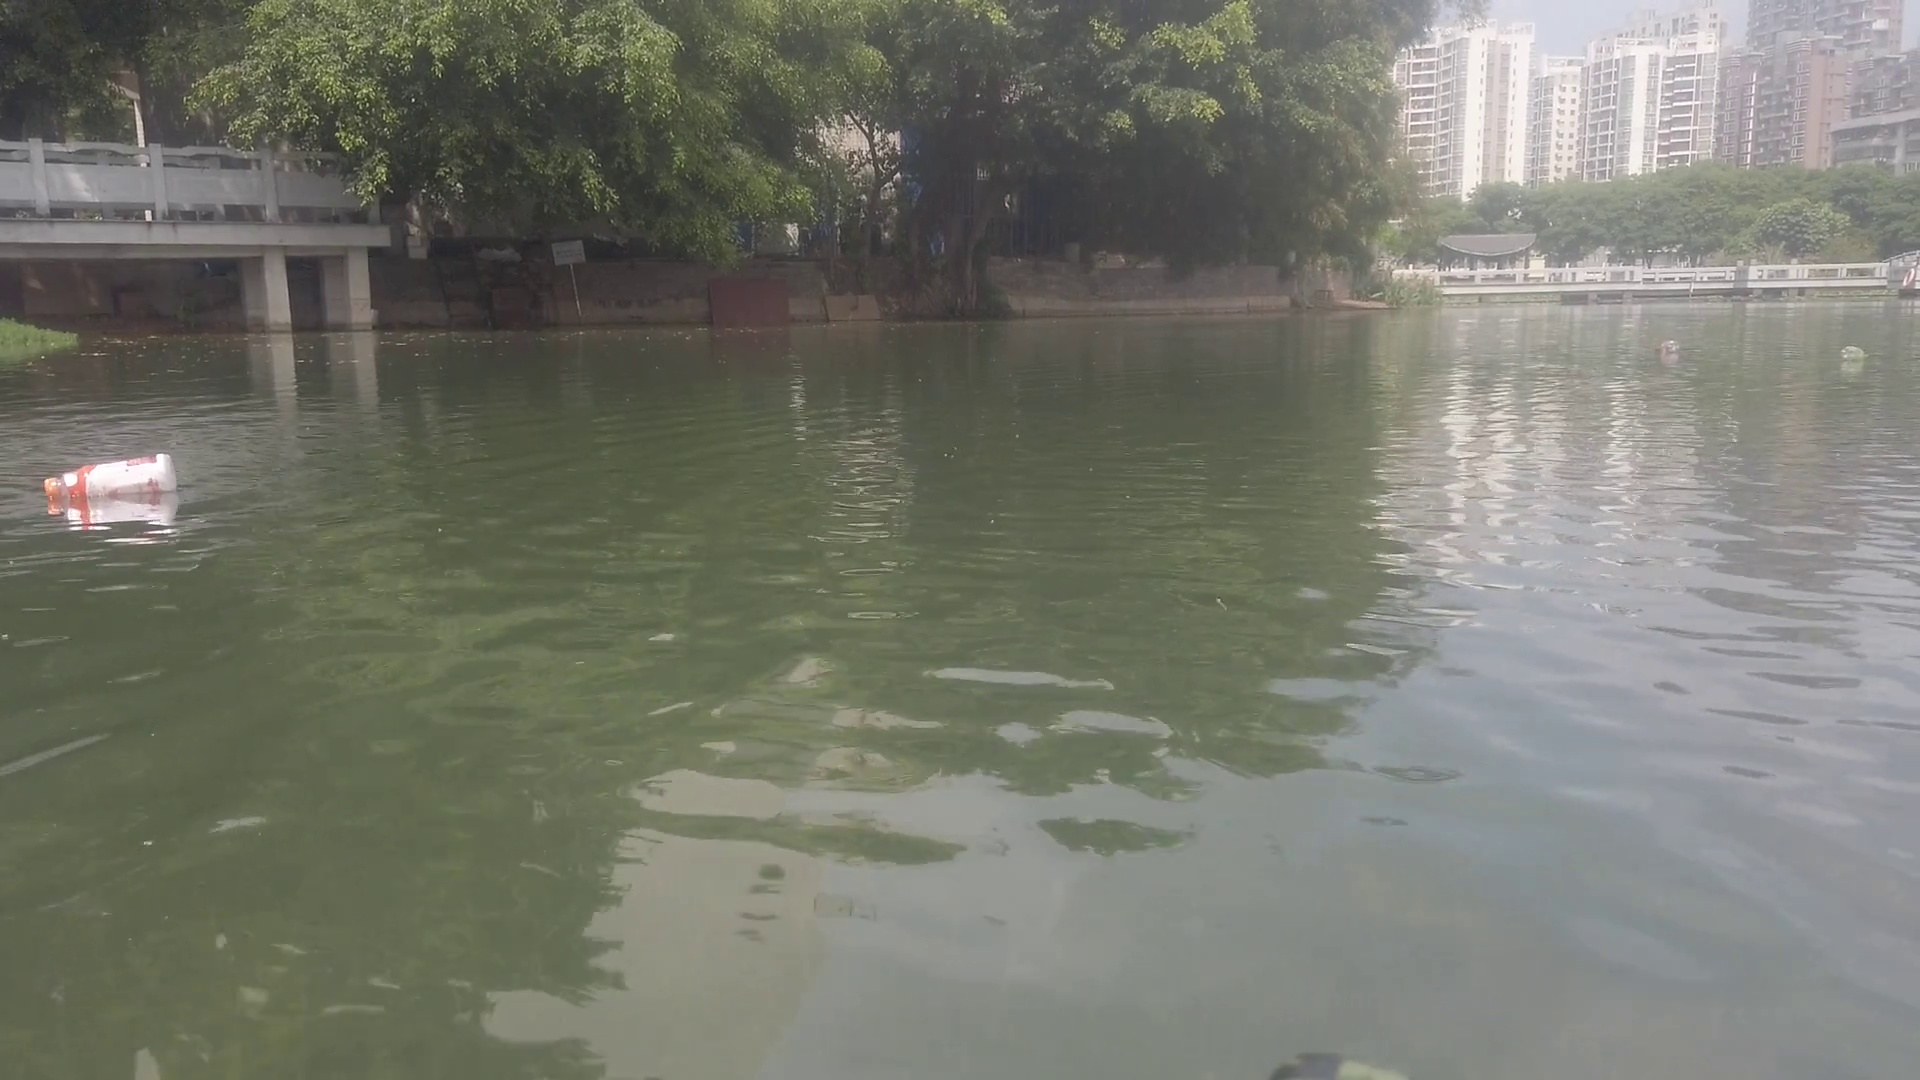bottle: (40, 452, 178, 493), (1841, 343, 1865, 360), (1655, 335, 1677, 351)
